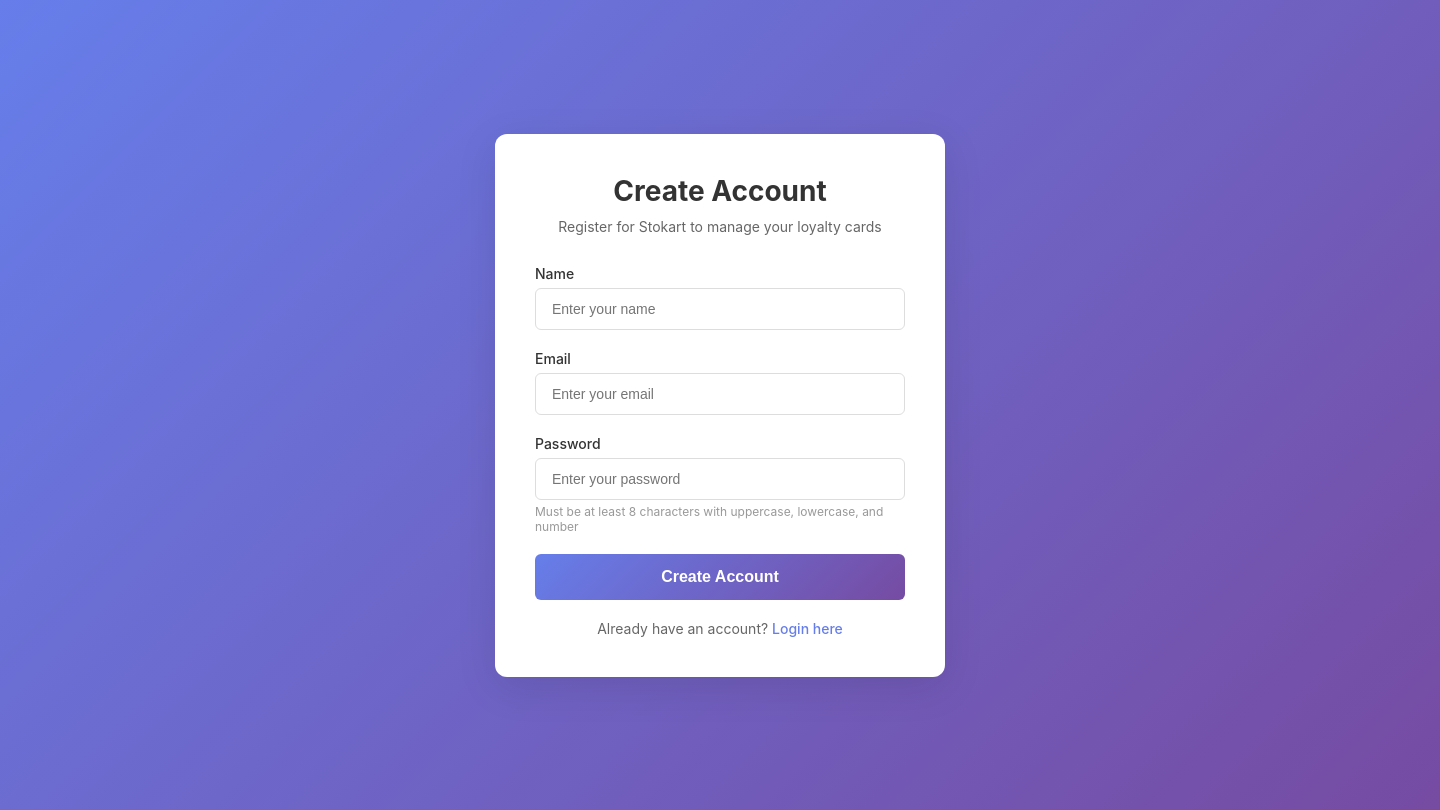
Test case: RegisterView › Form Validation › should validate email format correctly
The width and height of the screenshot is (1440, 810).
Note: Valid email
Type "user@example.com" into the field with id "email" at (720, 394), box left=535, top=372, right=905, bottom=414
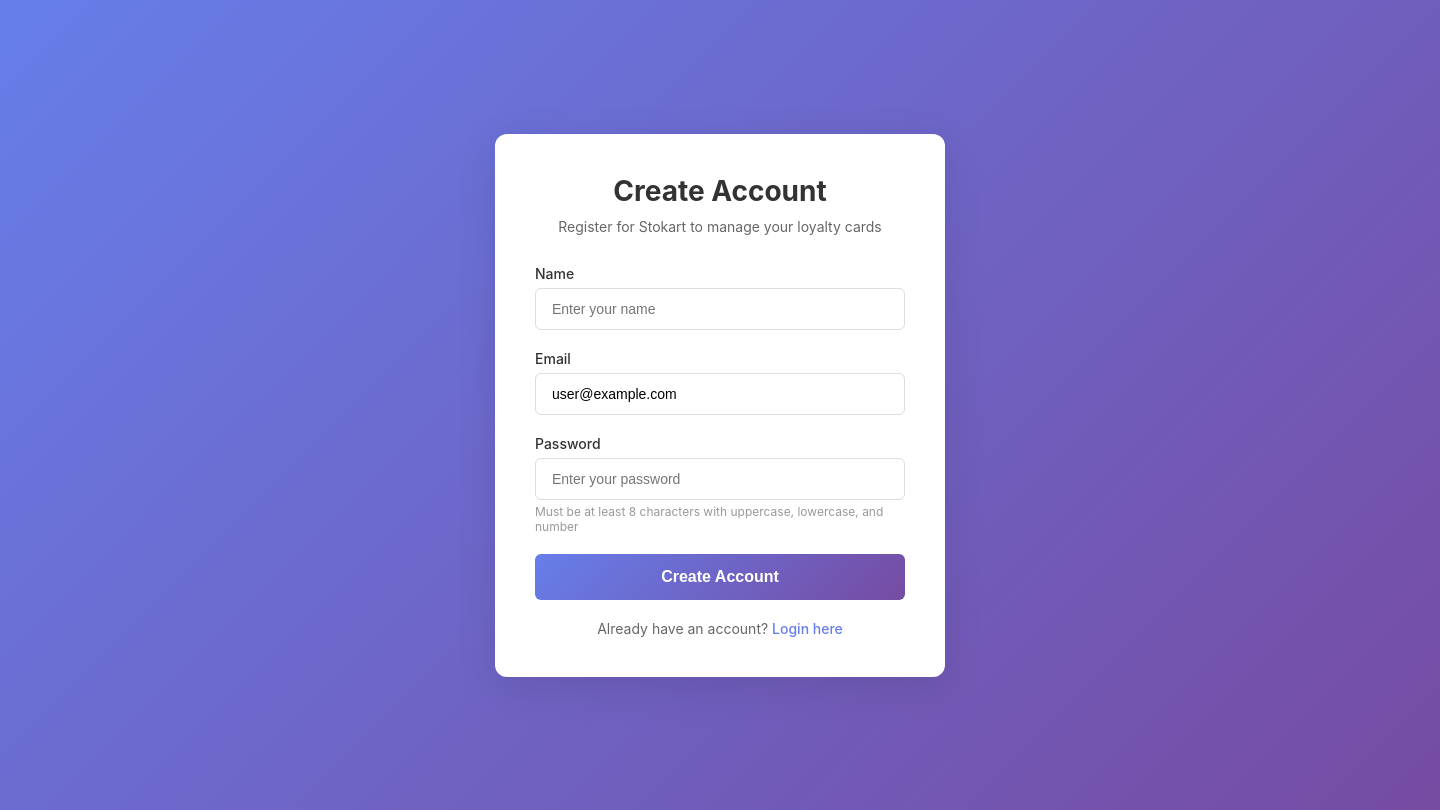
Expected: the text "Please enter a valid email address" is not shown
Note: Invalid email
Replace the text in the field with id "email" with "invalid" at (720, 394), box left=535, top=372, right=905, bottom=414
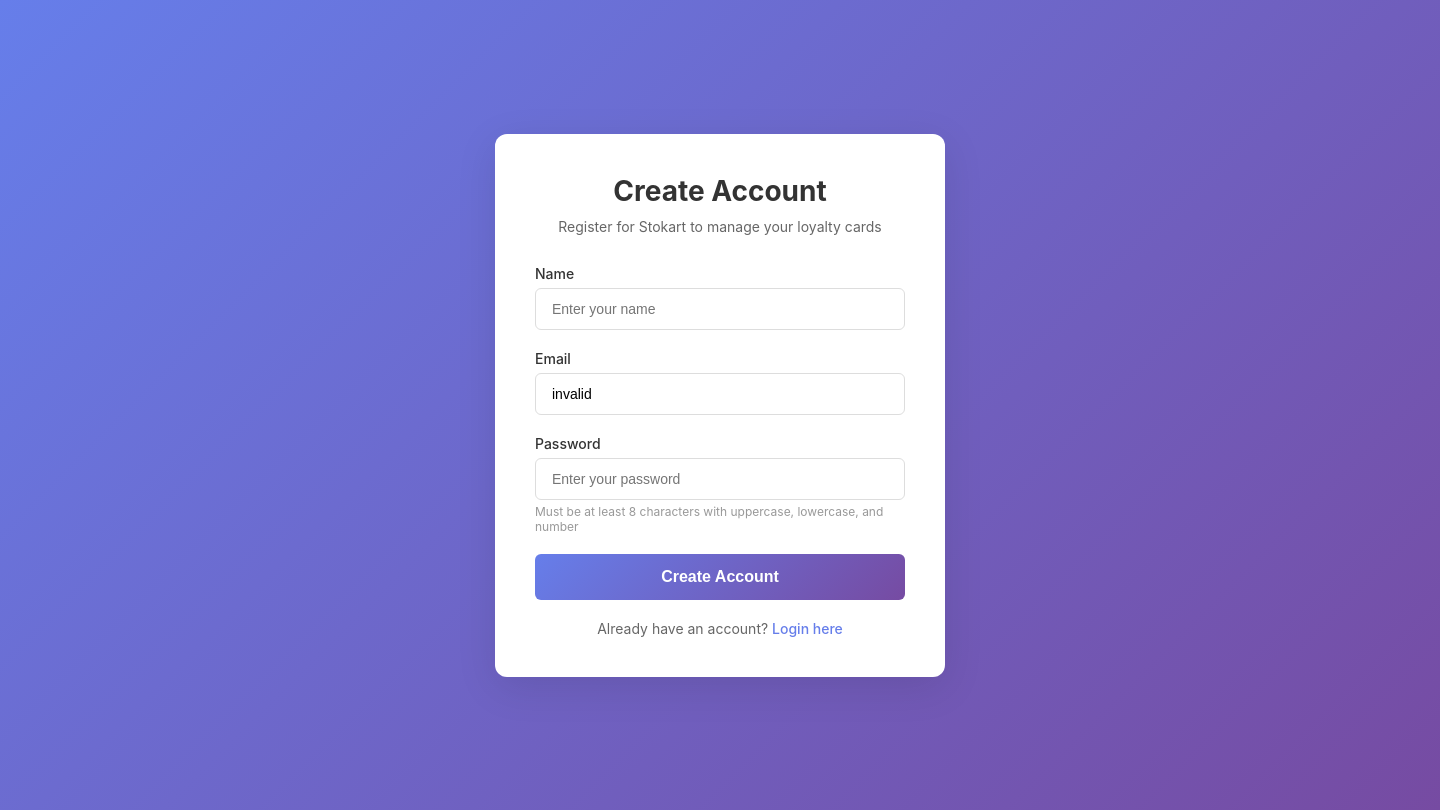
Leave the field with id "email", box left=535, top=372, right=905, bottom=414
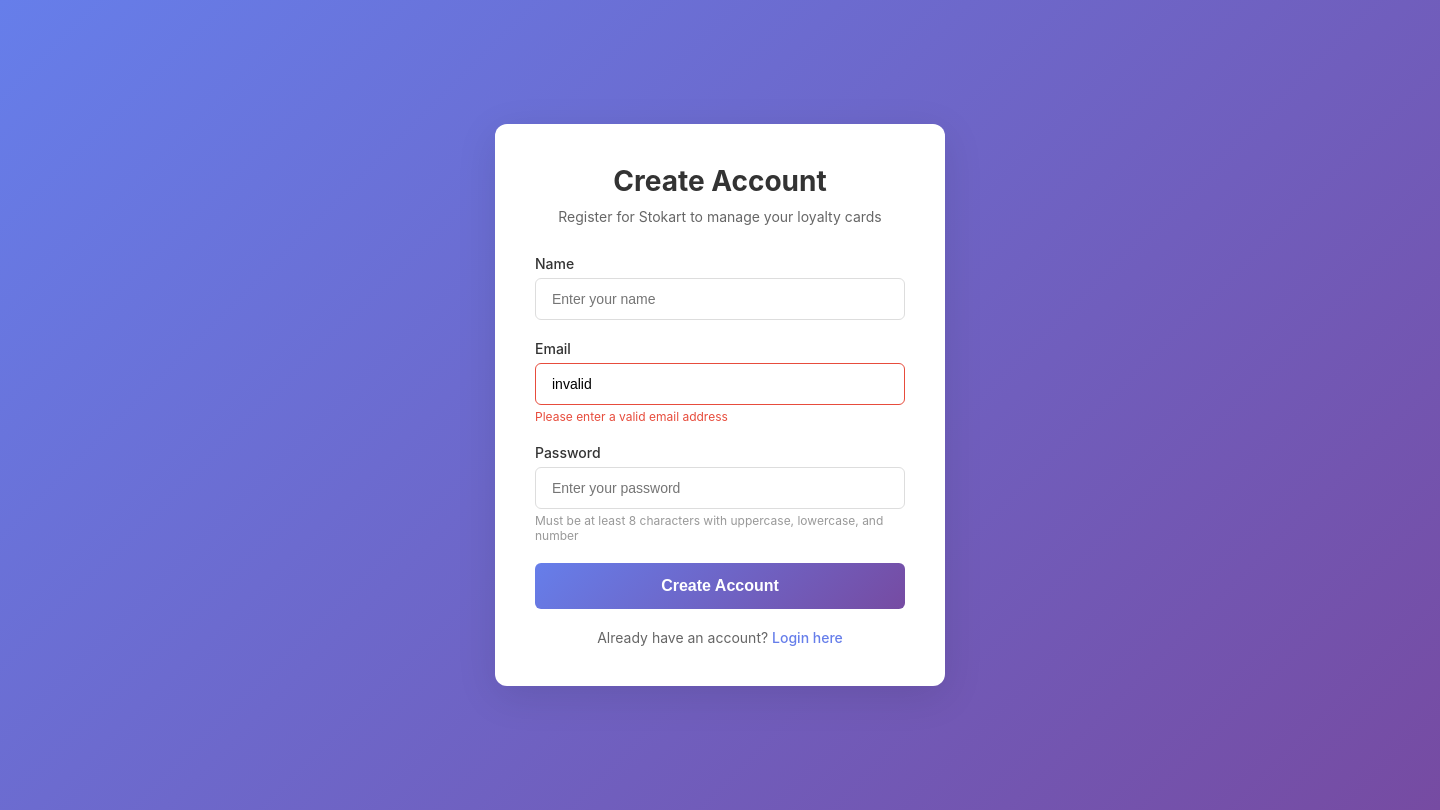
Expected: the text "Please enter a valid email address" is shown, left=535, top=409, right=728, bottom=424
